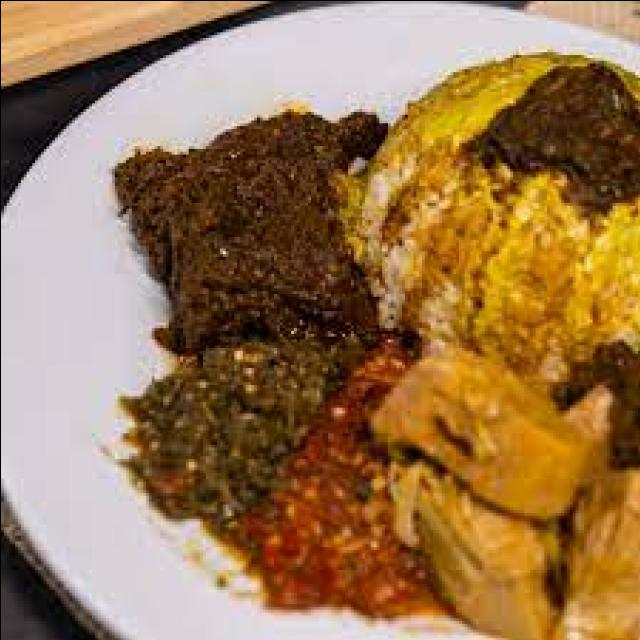rendang: (111, 108, 390, 358)
